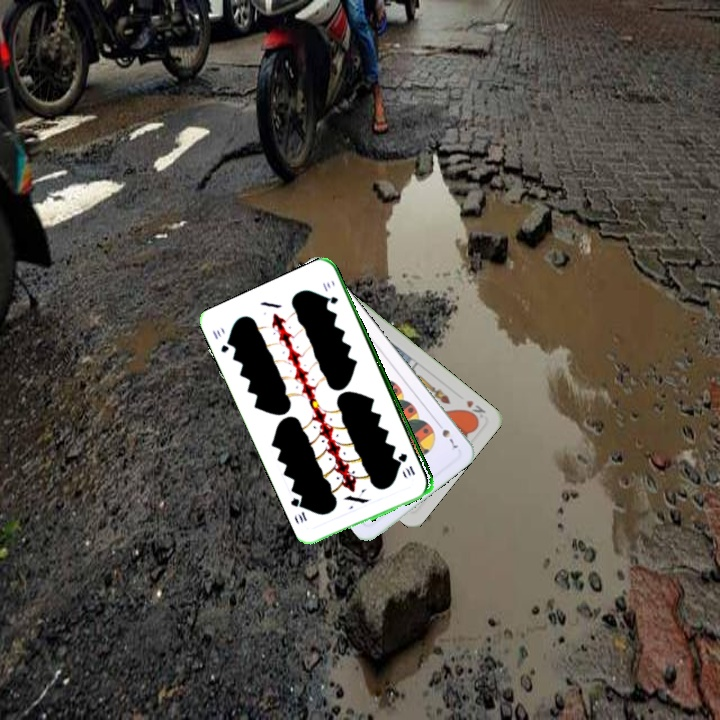G10: (208, 326, 235, 355), (396, 449, 418, 478)
HK: (460, 396, 488, 423)
S7: (432, 418, 461, 451)
